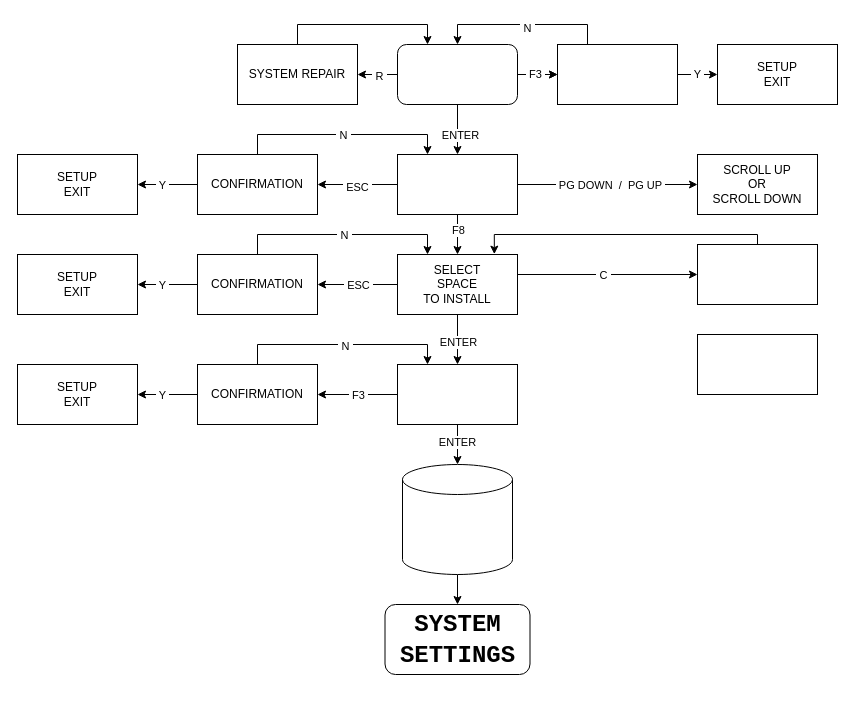
This 855x704 diagram has some shape labels left out. Each missing label, with the centre of its shape:
CREATE NEW PARTITION: point (757, 274)
SELECT FORMATING FILE SYSTEM: point (457, 394)
SETUP EXIT CONFIRMATION: point (617, 74)
START: point (457, 74)
SYSTEM INSTALLATION: point (457, 519)
WINDOWS XP LICENSE AGREEMENT: point (457, 184)
